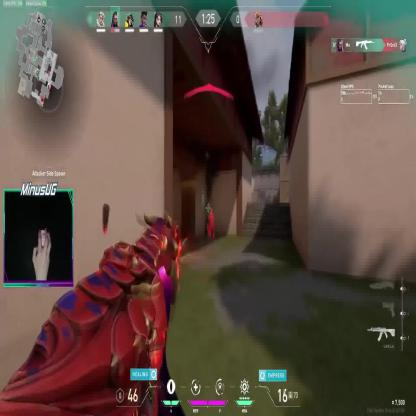enemy: (207, 206, 215, 239)
enemy_head: (209, 208, 213, 215)
